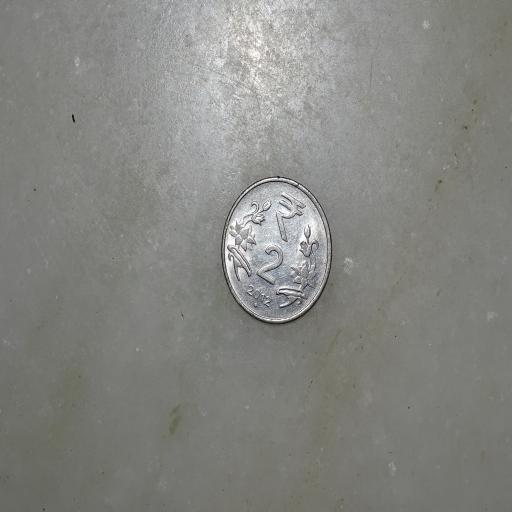rupee2: (219, 177, 334, 326)
